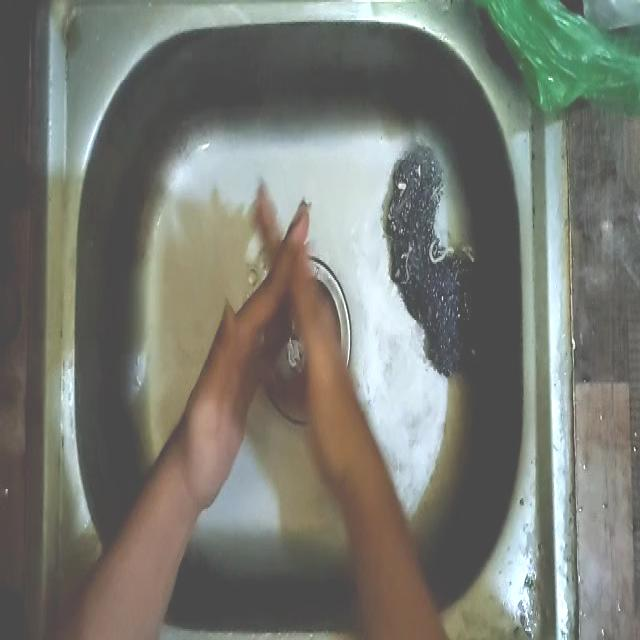step_3: (184, 170, 355, 473)
